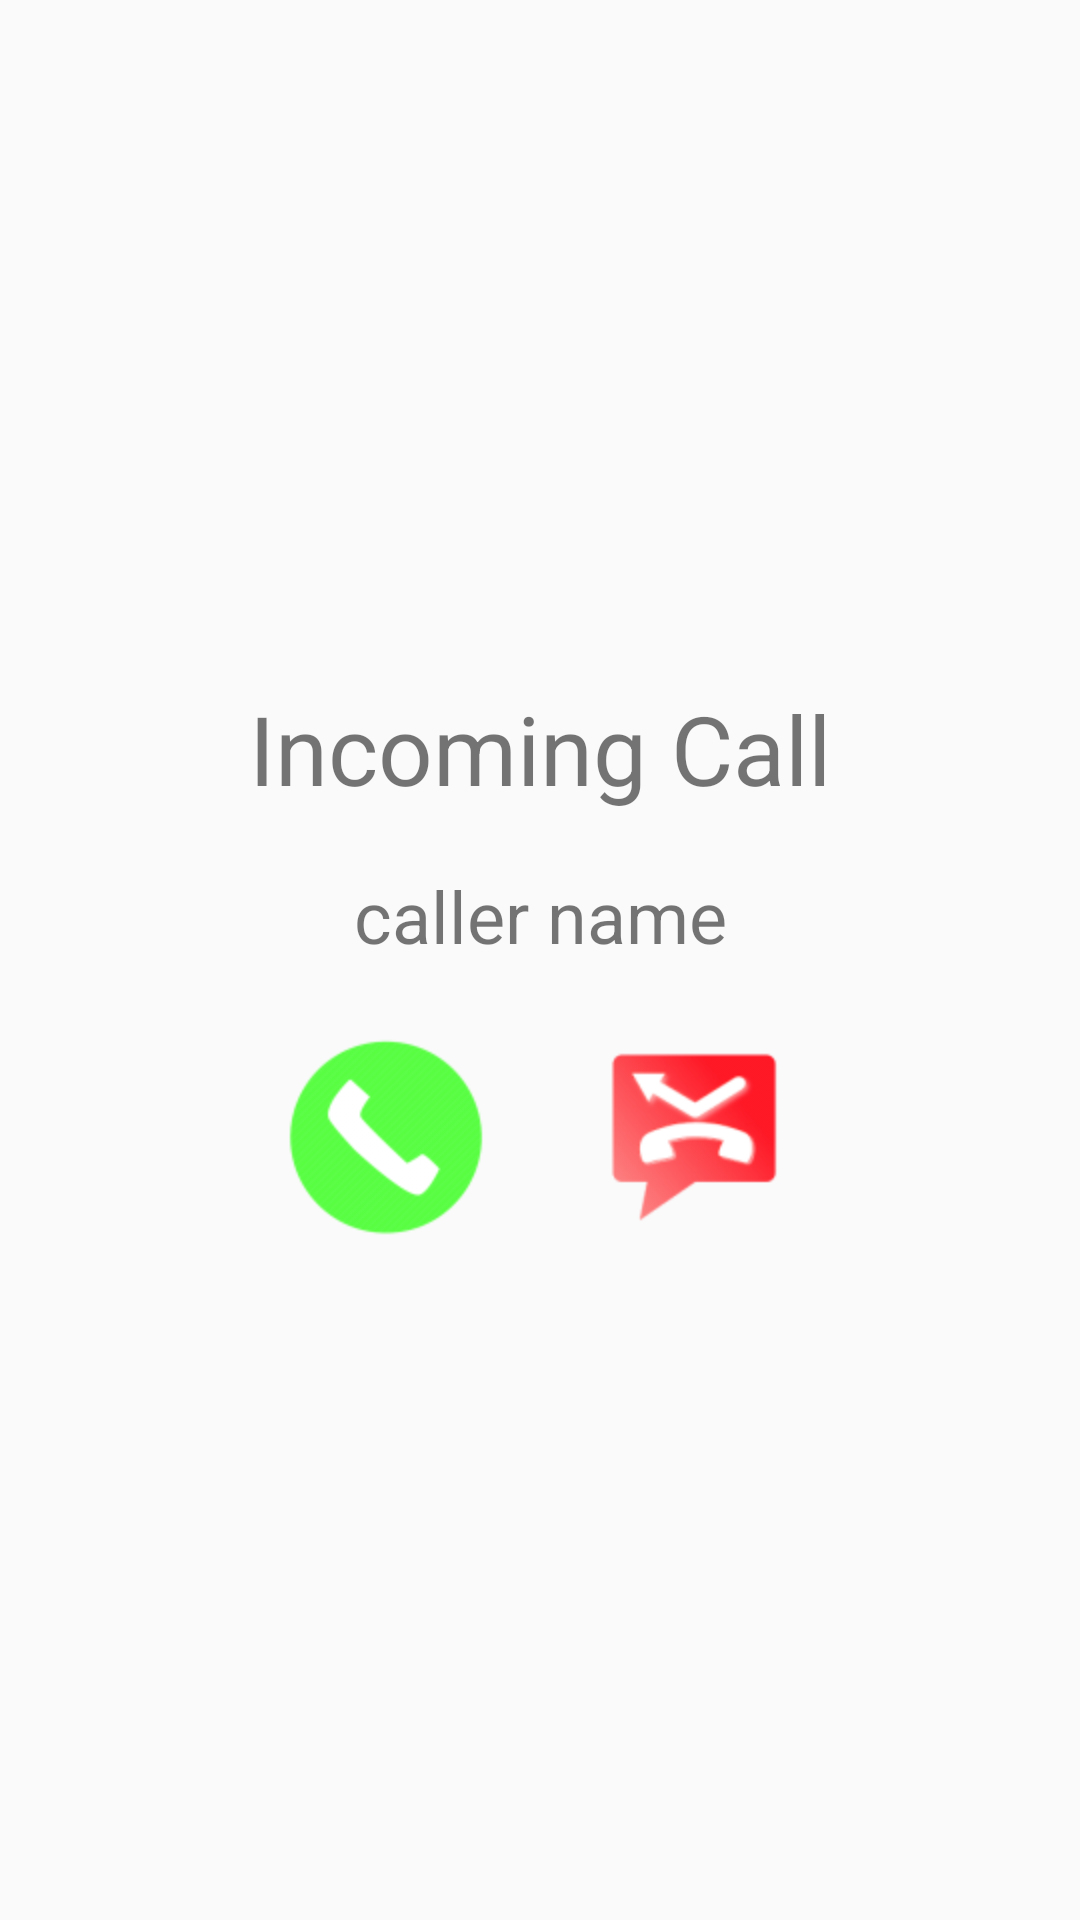

Icon click points for this 1080x1920 phone screenshot, format [x,y]:
reject call: [694,1136]
